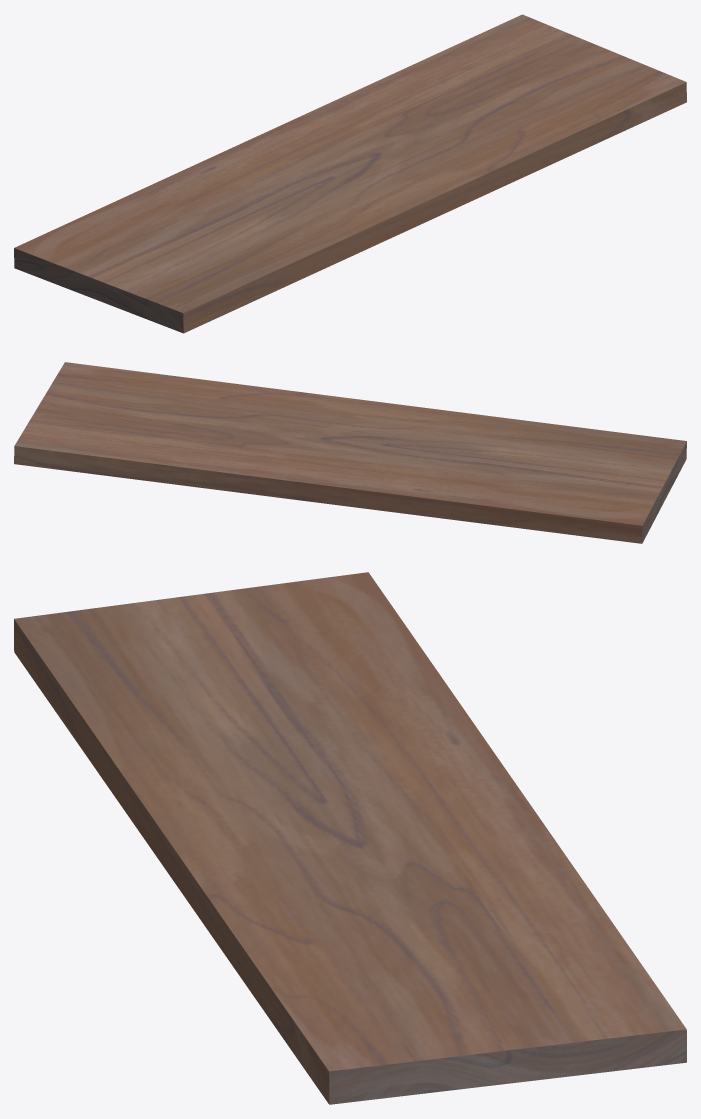
File: plank_056.fbx
3 renders of one model, top to bottom at view 1: azimuth 30°, elevation 25°; view 2: azimuth 150°, elevation 25°; view 3: azimuth 270°, elevation 25°, orthographic. The views are drawn at different scales.
Visible parts, largest first — view 1: plank.056; view 2: plank.056; view 3: plank.056.
Part boxes in pixels (bbox=[...]): plank.056: bbox=[14, 14, 686, 333]; plank.056: bbox=[14, 362, 686, 543]; plank.056: bbox=[14, 572, 686, 1104].
Bounding box in the file's own units: 33.77 × 1.66 × 18.41.
